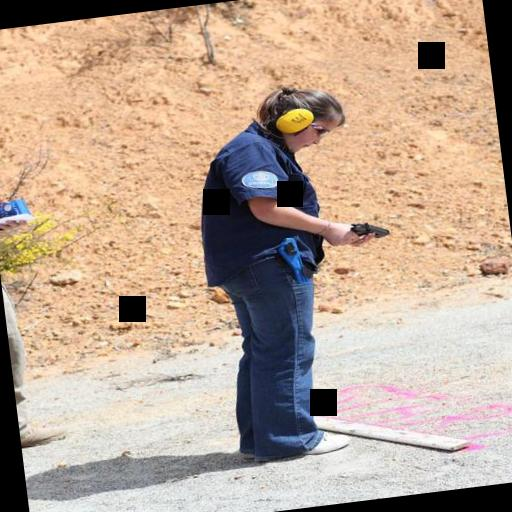Handgun: (332, 212, 396, 251)
